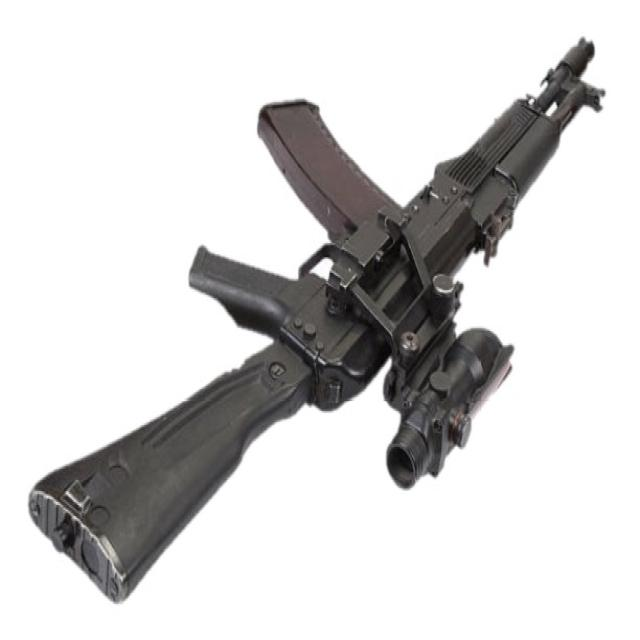rifle: (29, 30, 614, 611)
